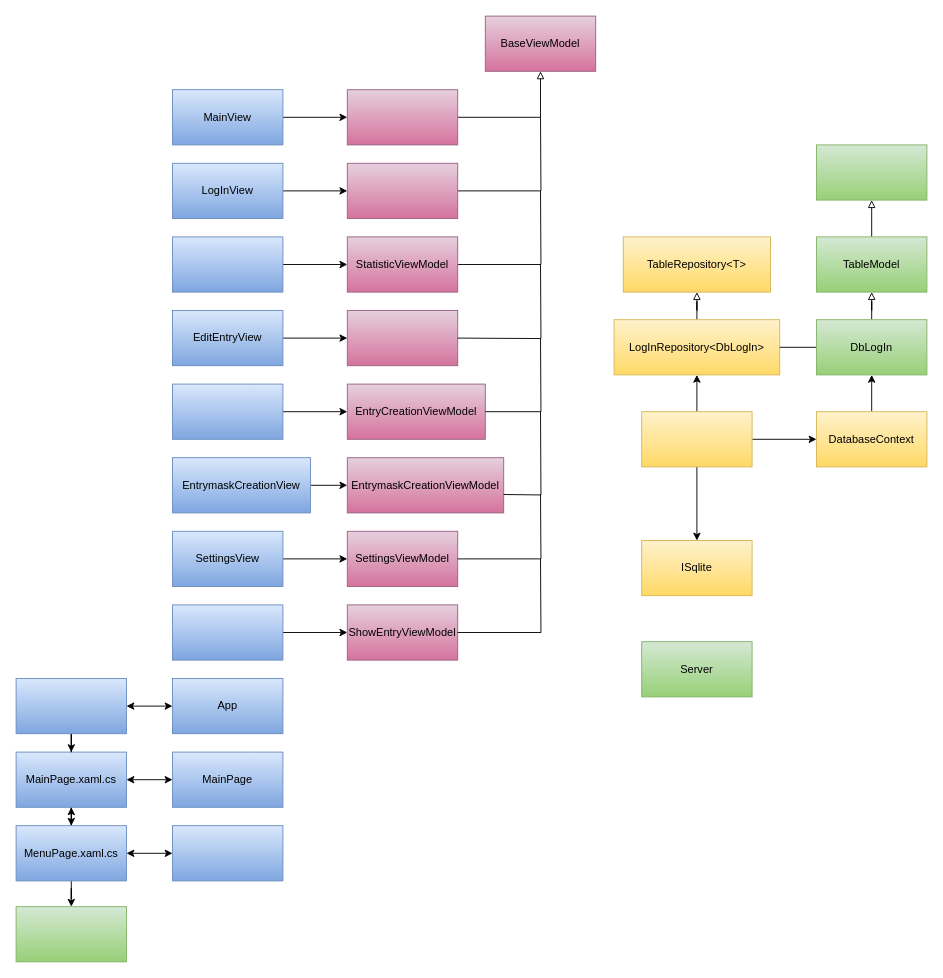
Image size: 943x978. Some labels were removed from this diagram. The shapes that lost their labels are listed below. From the top down, each one's centre as x and y in pixels, then its label:
At [402,117]: "MainViewModel".
At [402,190]: "LogInViewModel".
At [871,172]: "BaseModel".
At [227,264]: "StatisticView".
At [402,338]: "EditEntryViewModel".
At [227,411]: "EntryCreationView".
At [696,439]: "DatabaseService".
At [227,632]: "ShowEntryView".
At [70,706]: "App.xaml.cs".
At [227,853]: "MenuPage".
At [70,934]: "HomeMenuItem".
